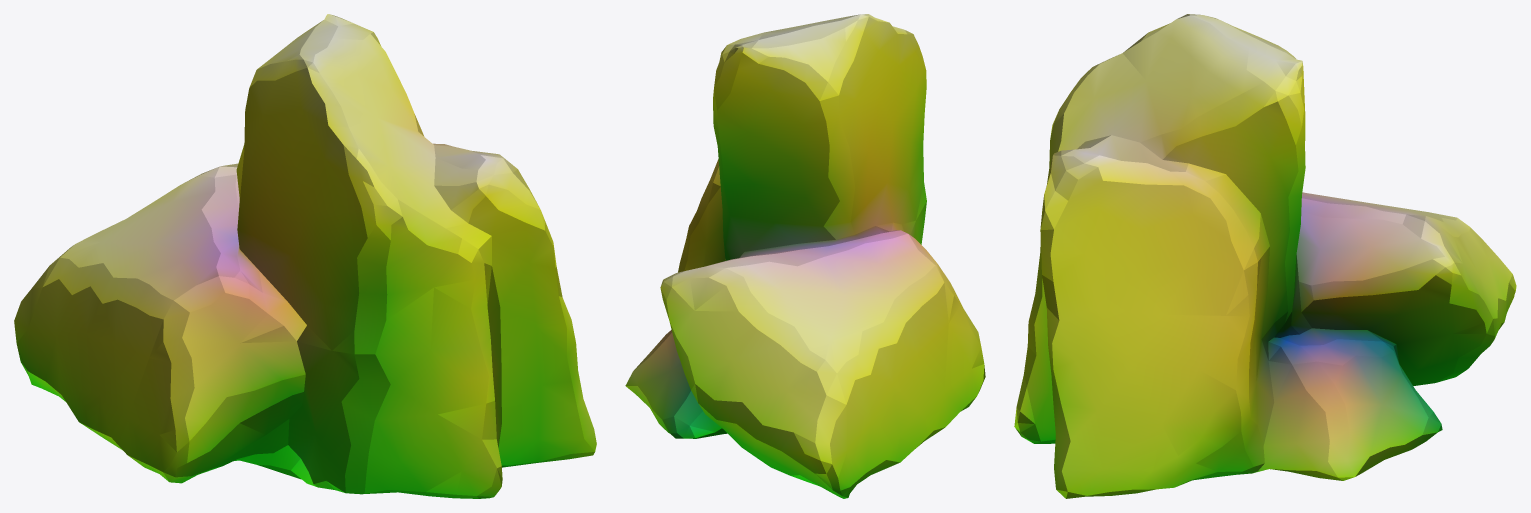
File: rock_lookdev_01.fbx
The picture shows the model from 3 angles, left to right: view 1: azimuth 30°, elevation 25°; view 2: azimuth 150°, elevation 25°; view 3: azimuth 270°, elevation 25°; orthographic projection. The views are drawn at different scales.
Visible parts, largest first — view 1: rock_generator; view 2: rock_generator; view 3: rock_generator.
Boxes of the visible parts, x1,y1,x2,y2 form: rock_generator: (14, 14, 596, 498); rock_generator: (625, 14, 985, 498); rock_generator: (1014, 14, 1516, 498).
Size of the model in its own units: 361 by 384 by 452.
